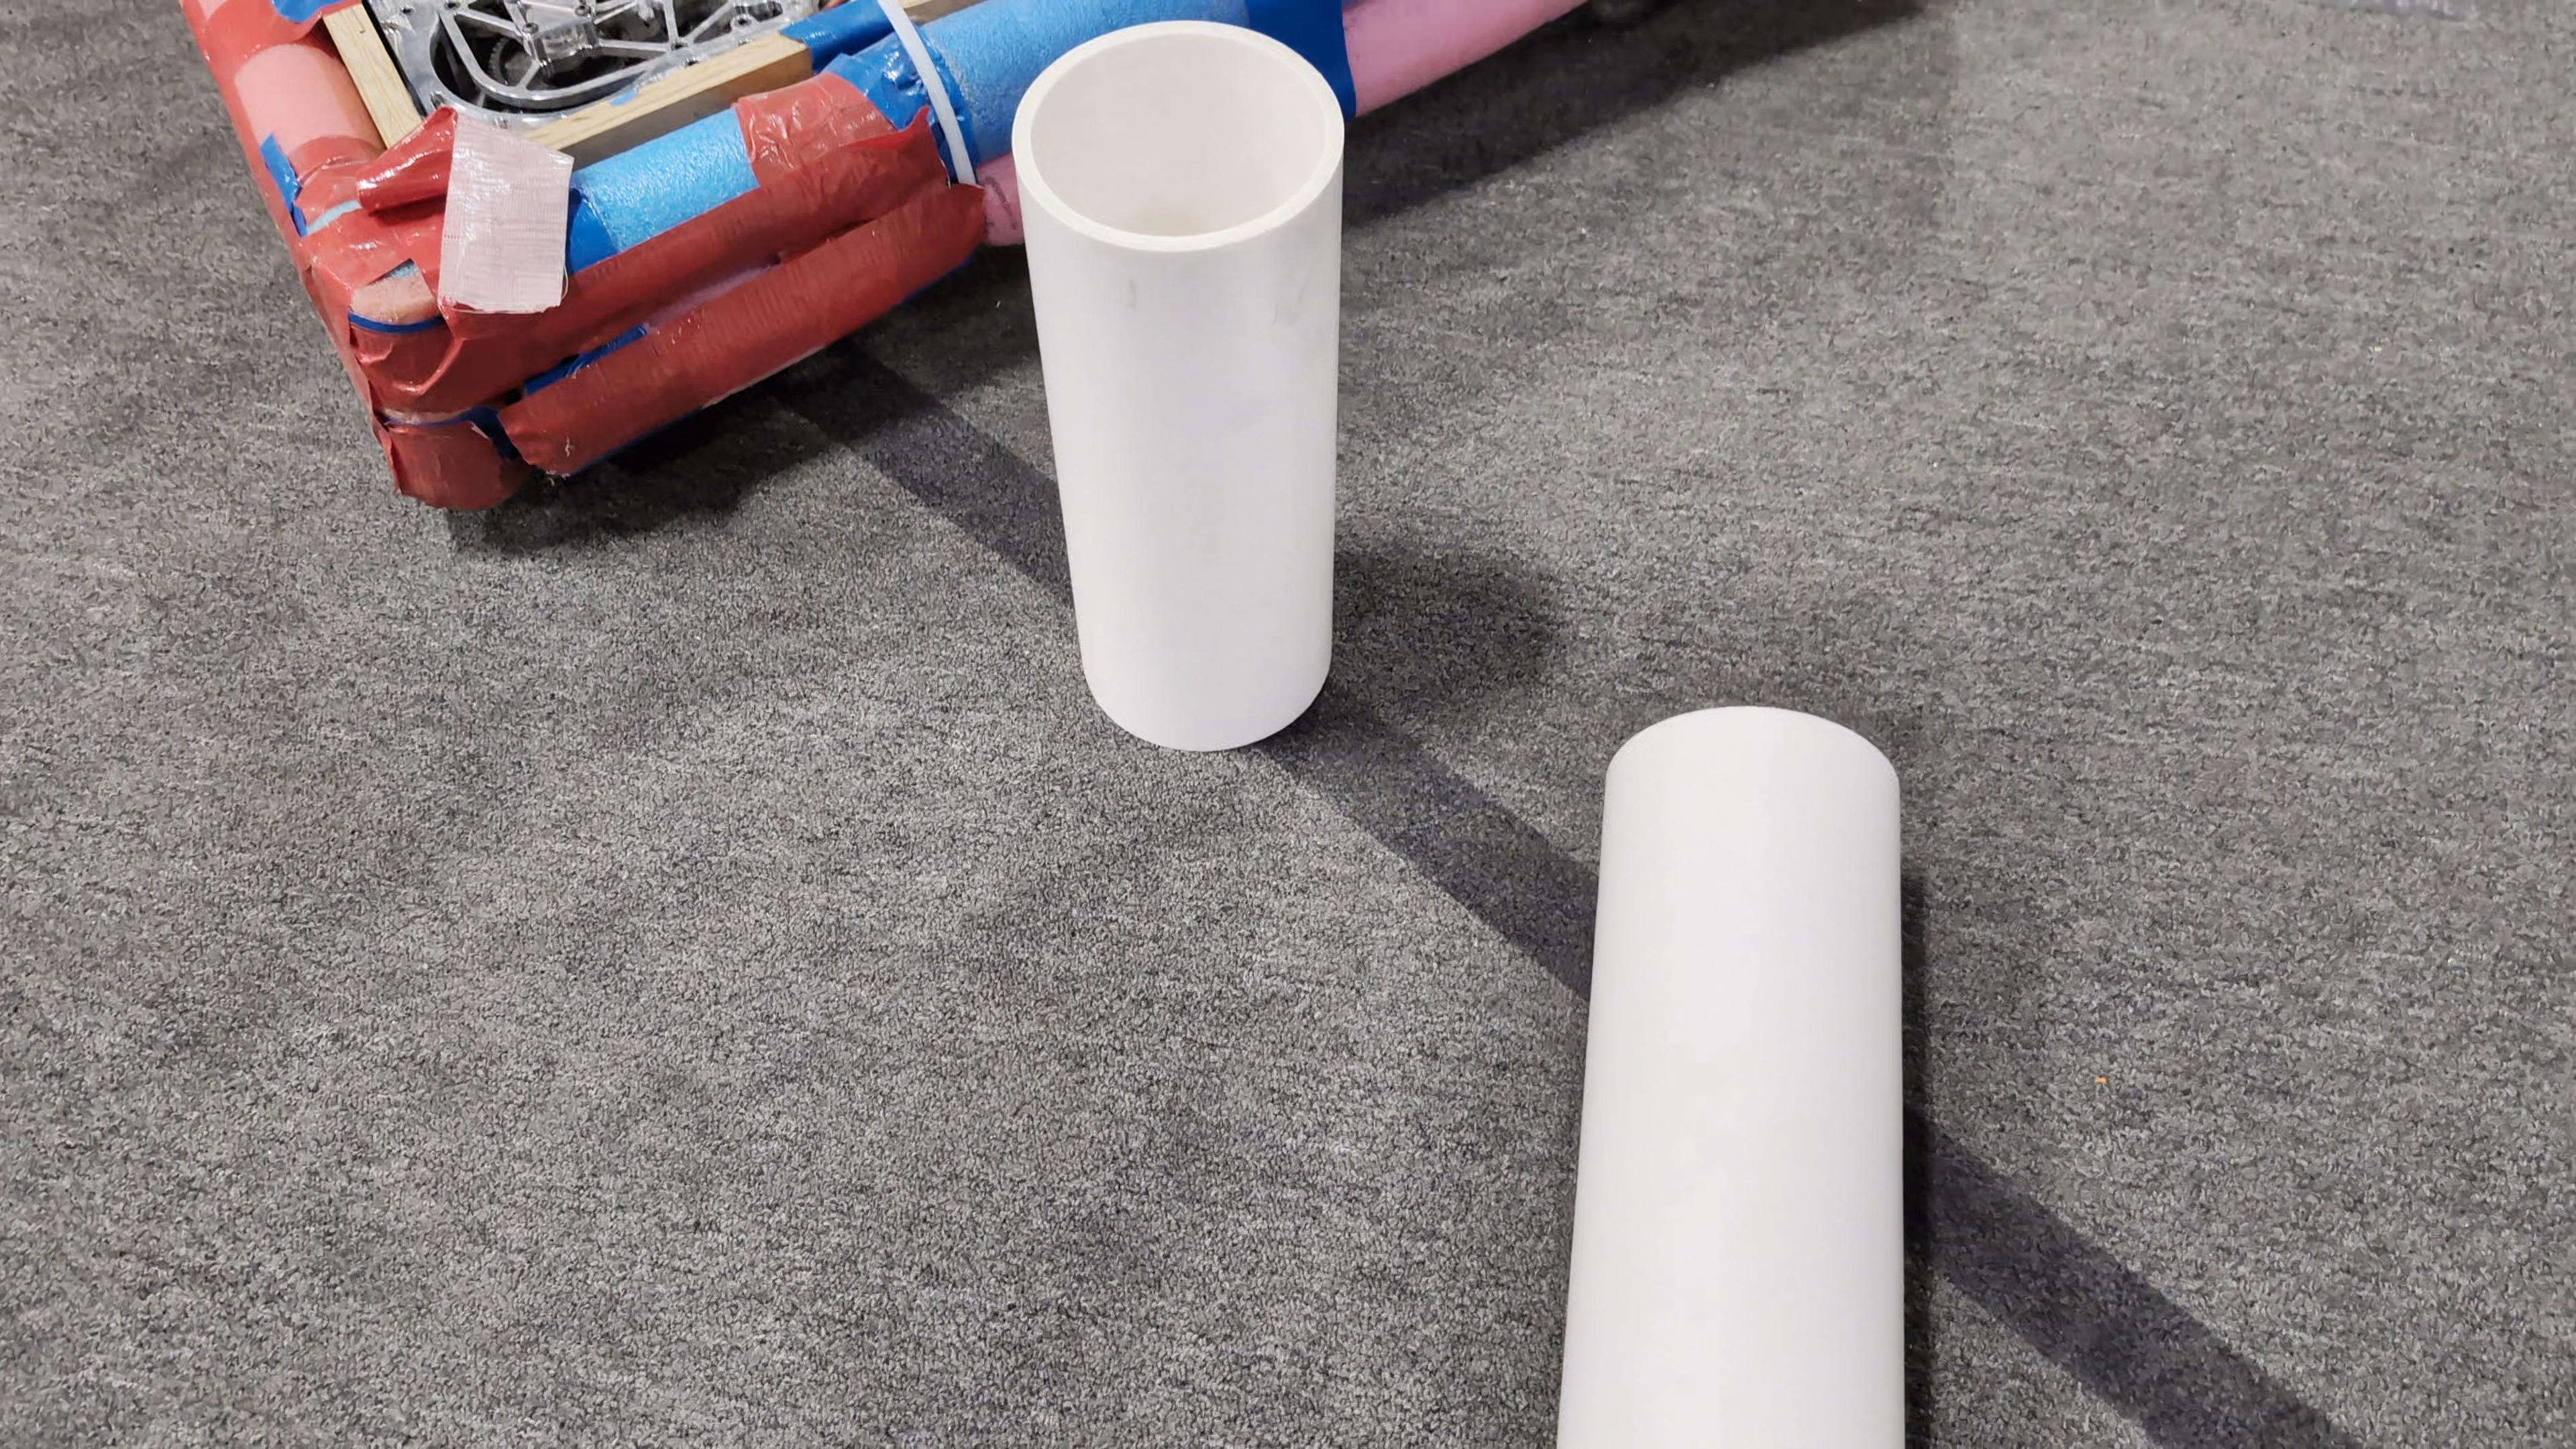coral: (1546, 699, 1909, 1444), (1007, 16, 1346, 747)
